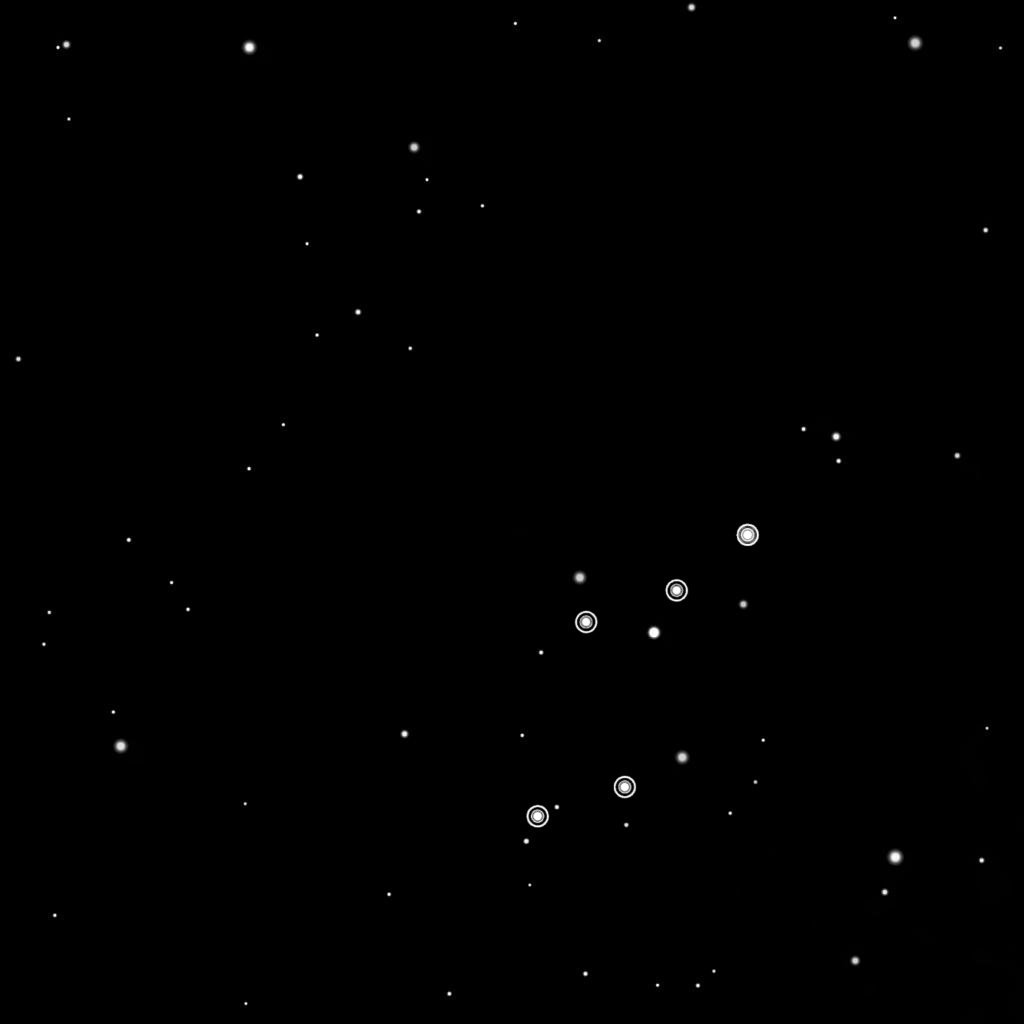lyra: (514, 516, 767, 833)
